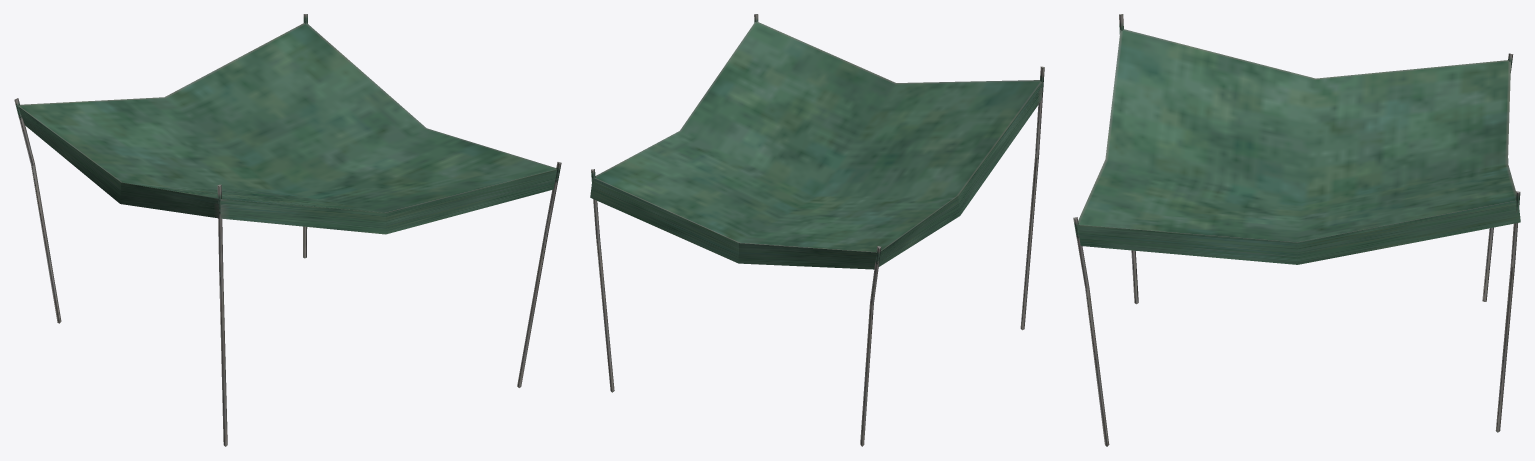
Rendered from poi_nboo_tent_small_l2.fbx.
The picture shows the model from 3 angles, left to right: view 1: azimuth 30°, elevation 25°; view 2: azimuth 150°, elevation 25°; view 3: azimuth 270°, elevation 25°; orthographic projection. The views are drawn at different scales.
Visible parts, largest first — view 1: mesh_node; view 2: mesh_node; view 3: mesh_node.
Part boxes in pixels (x1,y1,x2,y2): mesh_node: [14, 14, 561, 446]; mesh_node: [590, 14, 1044, 446]; mesh_node: [1073, 14, 1520, 446].
Bounding box in the file's own units: 4.85 × 3.69 × 5.3.
2 materials, 2 textured.
